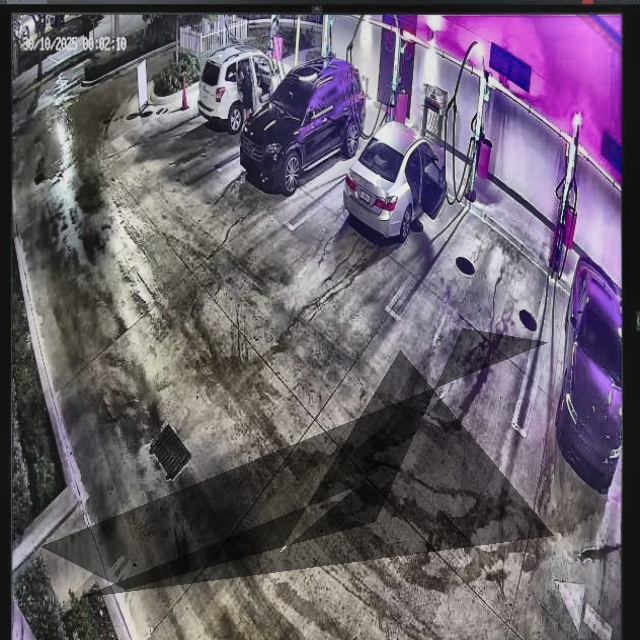Car: (245, 57, 366, 192), (343, 120, 446, 246)
